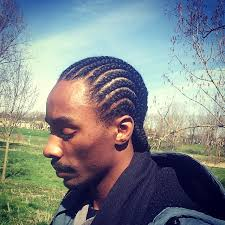black_male: (36, 86, 129, 195)
